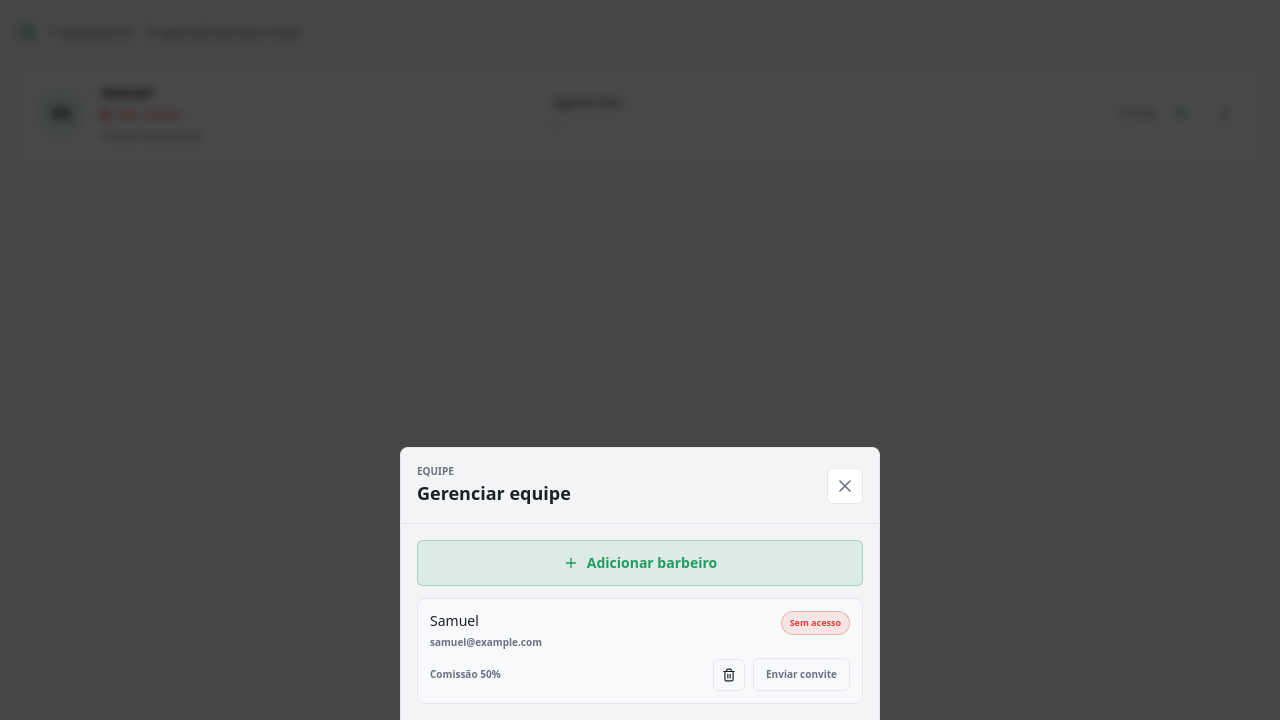
Test case: AdminDashboard barber invitations › keeps invite success feedback when only the list reload fails
This screenshot has width=1280, height=720.
Step 1. Click the button "Enviar convite" → click(802, 674), box [753,658,850,691]
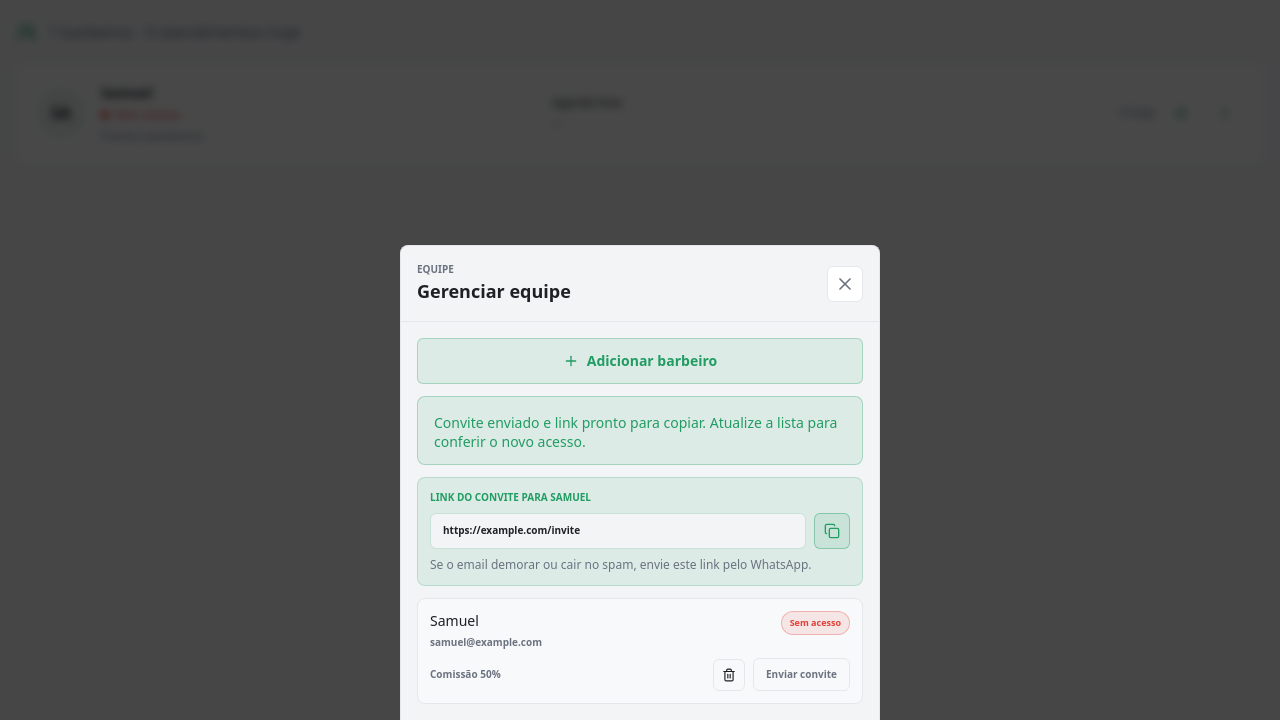
Expected: the text "Convite enviado e link pronto para copiar." is shown, [434,413,837,451]
